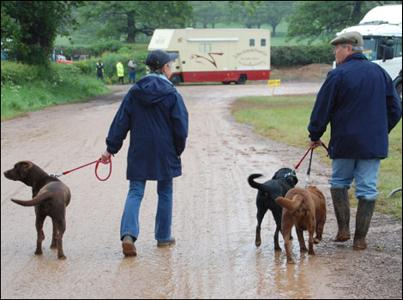person: (104, 51, 190, 255)
